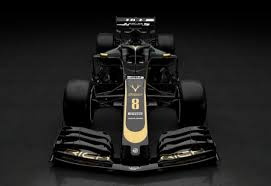f1_car: (43, 9, 227, 186)
